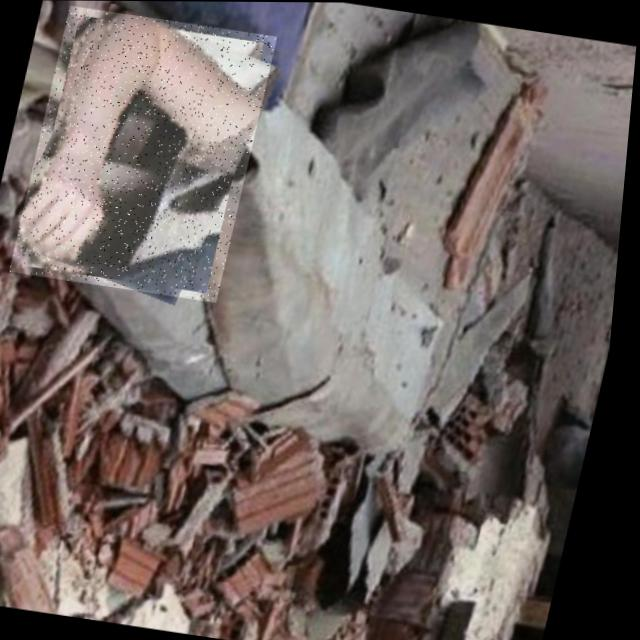Person in Rubble: (11, 5, 279, 303)
